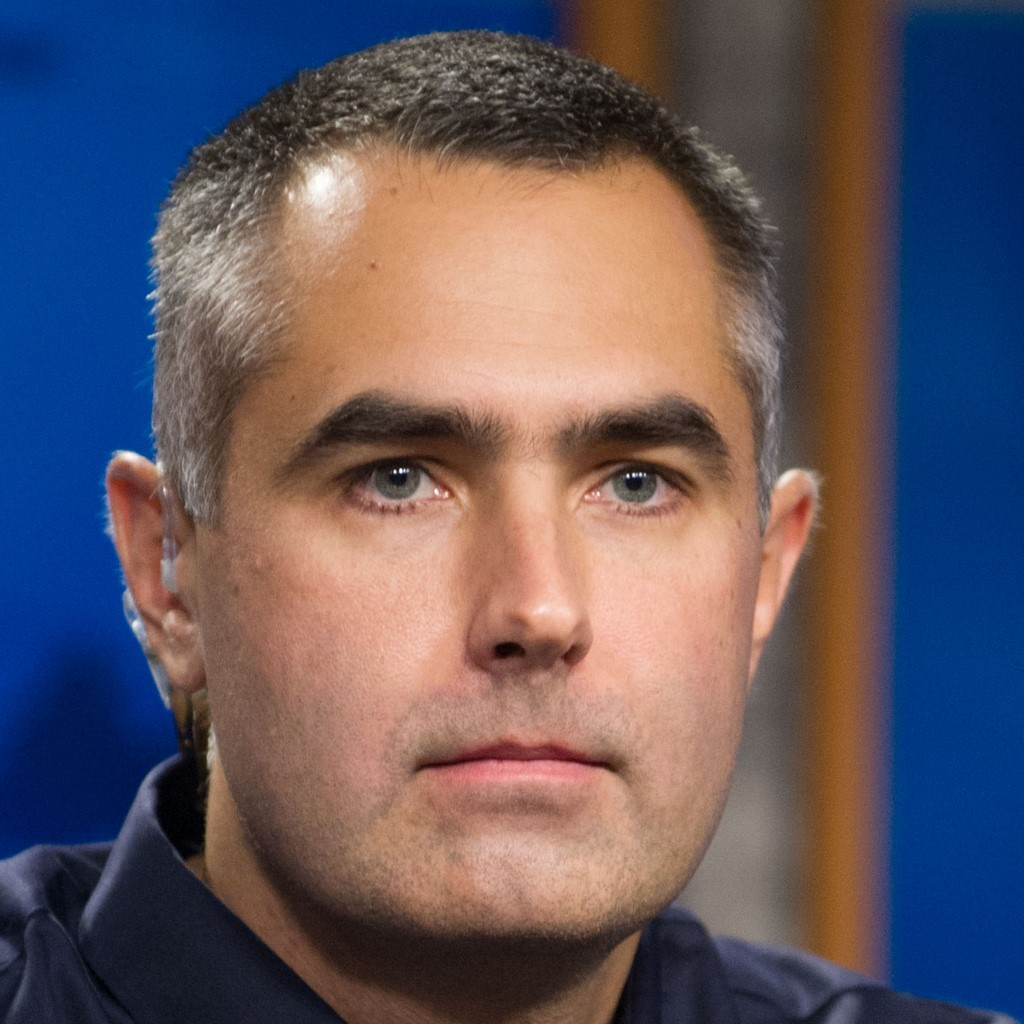sin_mascara: (151, 91, 758, 953)
